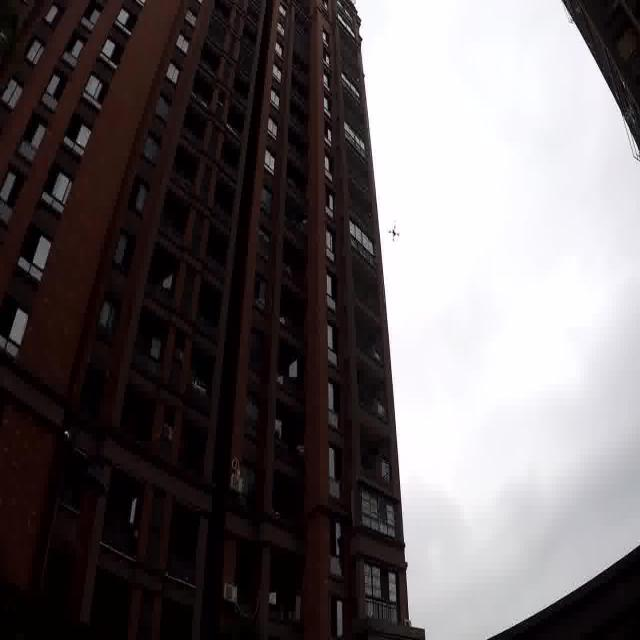drone: (385, 209, 401, 253)
